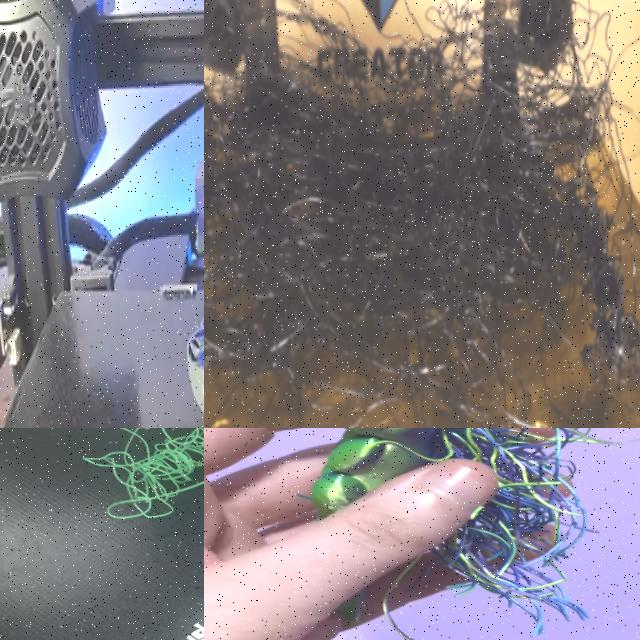spaghetti: (204, 0, 640, 428), (295, 428, 583, 640)
